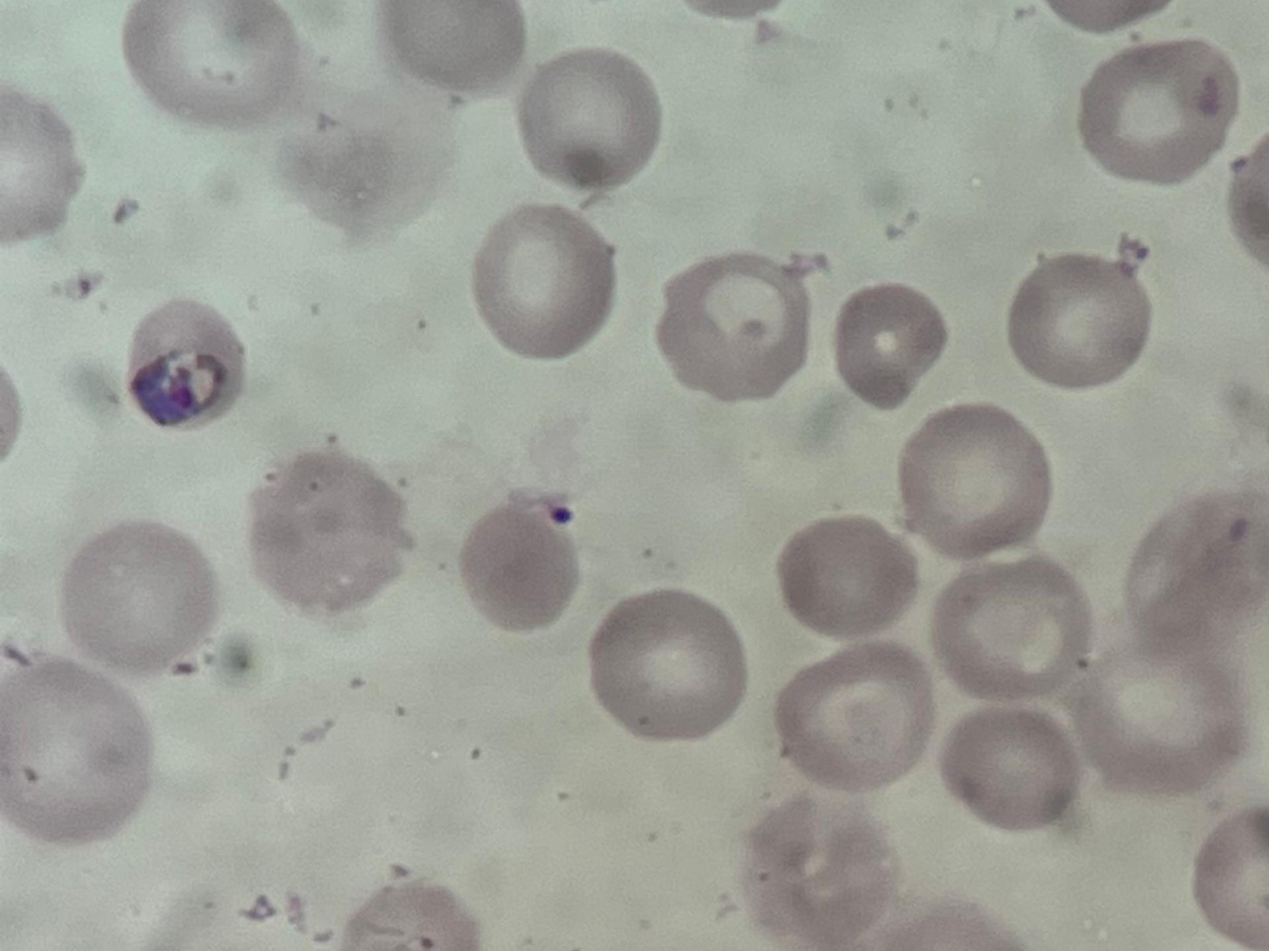Infected: (458, 491, 589, 637), (128, 305, 241, 427)
Uninfected: (0, 664, 154, 840), (769, 642, 943, 793), (894, 399, 1056, 555), (593, 591, 749, 743), (253, 450, 401, 609), (62, 523, 219, 671), (1080, 43, 1238, 190), (657, 254, 809, 405), (930, 554, 1090, 696), (471, 206, 611, 359), (126, 1, 301, 123), (520, 45, 664, 186), (1009, 252, 1149, 387), (943, 706, 1075, 830), (782, 516, 918, 628), (833, 283, 949, 412)
